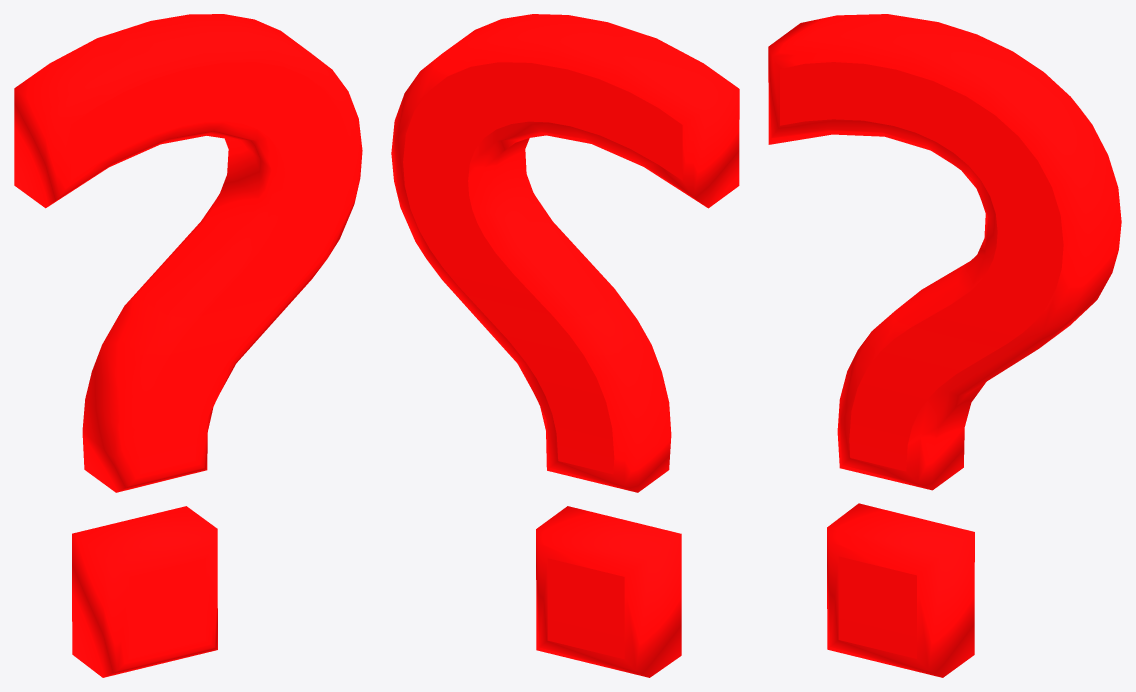
The model's file is 00234424-ff98-4578-aadb-b730a0f4bd2c.glb.
3 views of the same model, side by side, from view 1: azimuth 30°, elevation 25°; view 2: azimuth 150°, elevation 25°; view 3: azimuth 330°, elevation 25° (orthographic).
Parts seen in each view (by area): view 1: IndicatorQuestionMarkRed; view 2: IndicatorQuestionMarkRed; view 3: IndicatorQuestionMarkRed.
Part boxes in pixels (box(x1,y1,x2,y2)): IndicatorQuestionMarkRed: box(14, 14, 362, 677); IndicatorQuestionMarkRed: box(391, 14, 739, 677); IndicatorQuestionMarkRed: box(768, 14, 1121, 677).
Size of the model in its own units: 0.2591 by 0.4808 by 0.0645.
1 material, 1 textured.
